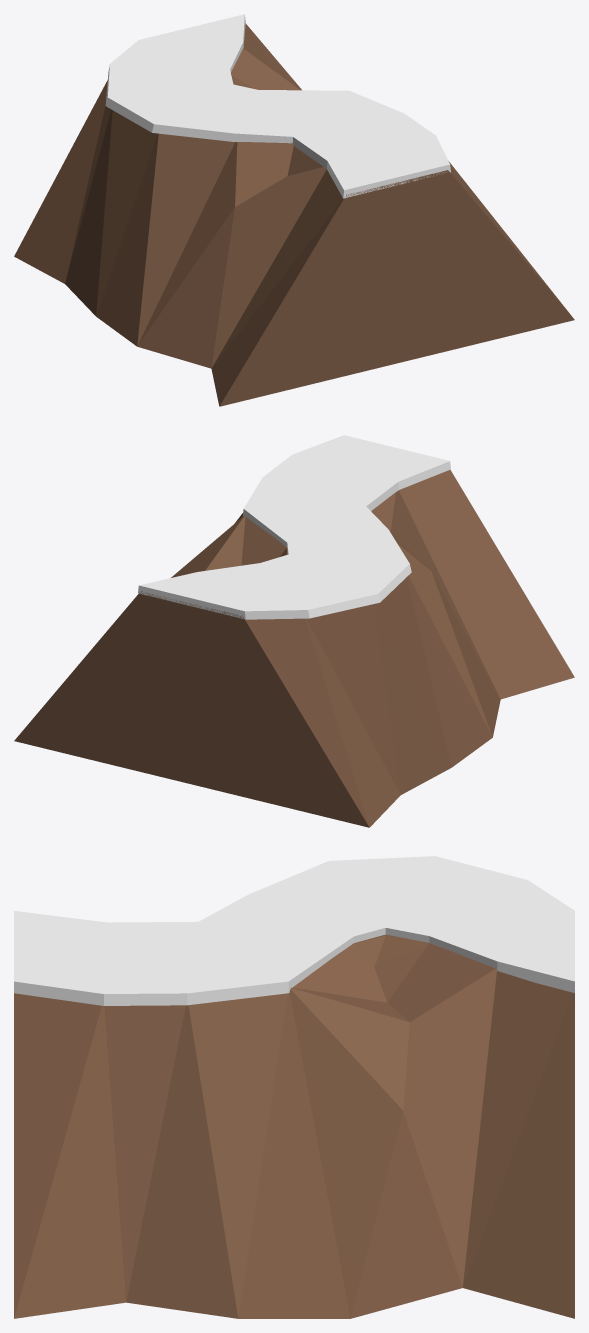
The model's file is Path_04.fbx.
3 views of the same model, one above another, from view 1: azimuth 30°, elevation 25°; view 2: azimuth 150°, elevation 25°; view 3: azimuth 270°, elevation 25° (orthographic). The views are drawn at different scales.
Parts seen in each view (by area): view 1: Path_04; view 2: Path_04; view 3: Path_04.
Part boxes in pixels (x1=…): Path_04: x1=14, y1=14, x2=574, y2=406; Path_04: x1=14, y1=435, x2=574, y2=827; Path_04: x1=14, y1=856, x2=574, y2=1318.
Size of the model in its own units: 200 by 100 by 200.
2 materials, 1 textured.
